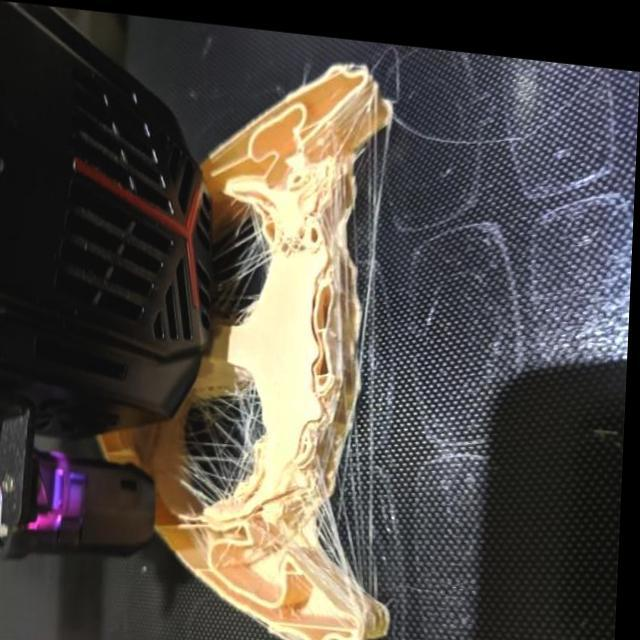stringing: (298, 443, 380, 604), (181, 360, 268, 510), (209, 185, 277, 326)
